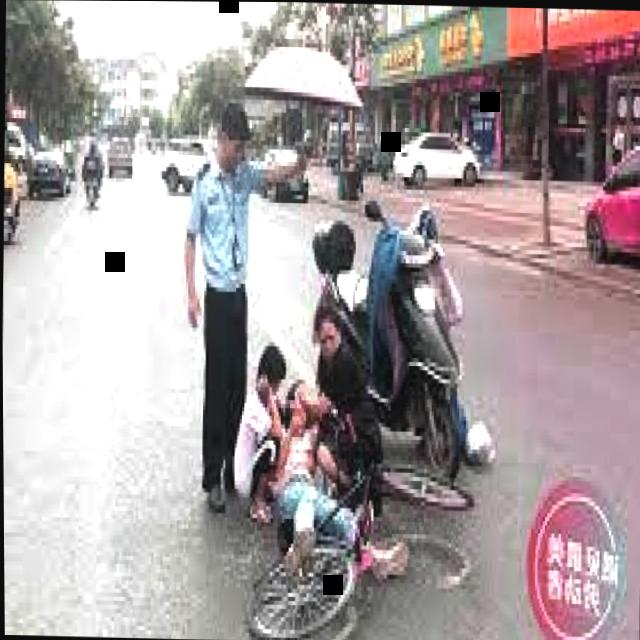Fall-Detected: (256, 353, 408, 603)
